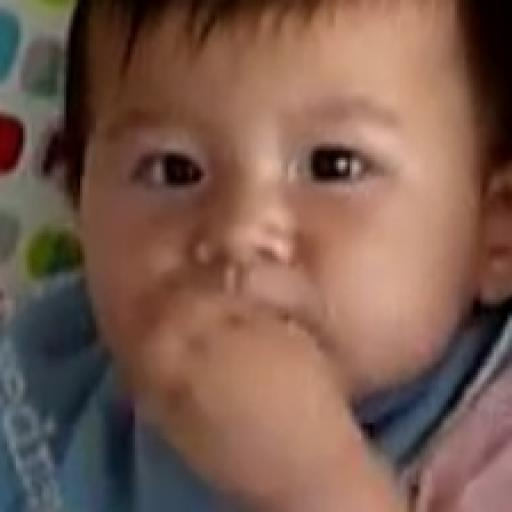Autism: (84, 0, 493, 461)
